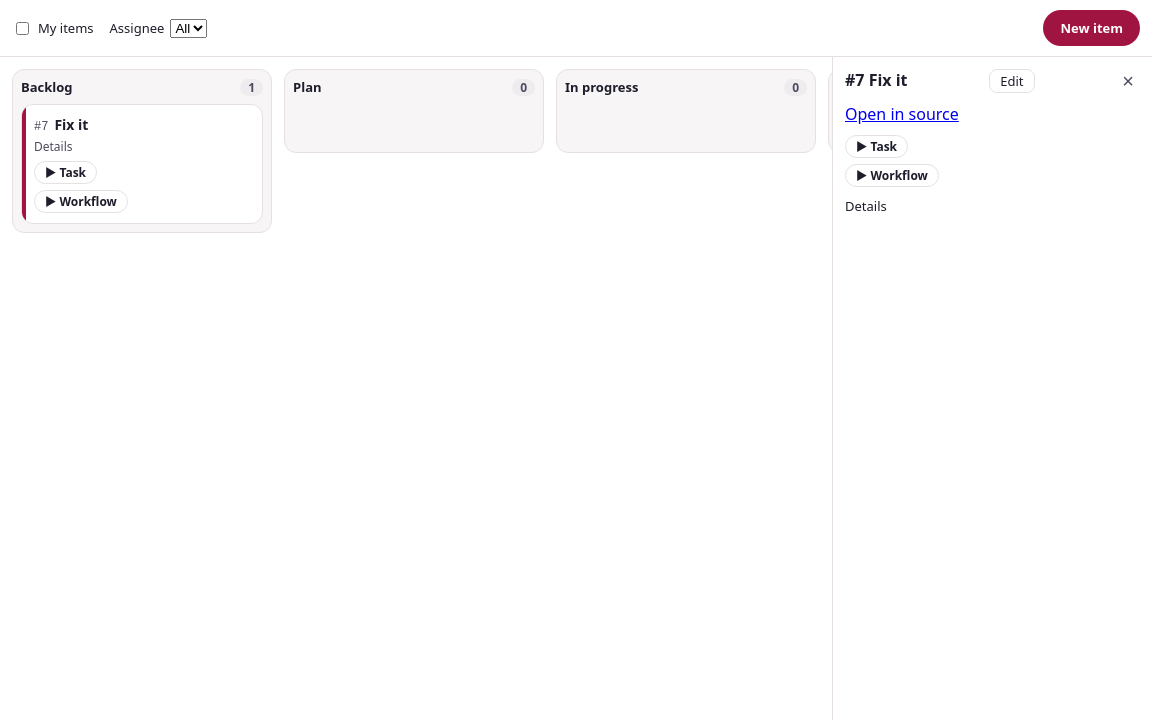
Scenario: item detail › starts a workflow from the detail too
The image size is (1152, 720).
Click the button with aria-label "Start workflow on #7".
click(892, 176)  # box [845,164,939,187]
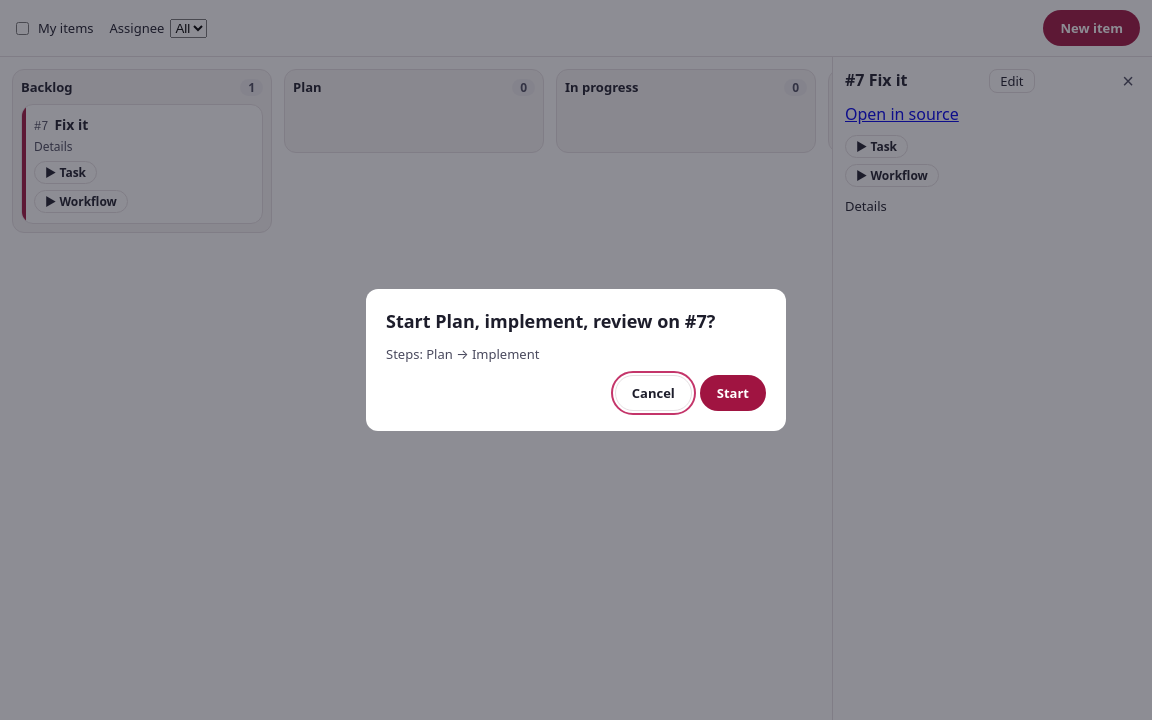
Expected: the dialog "Start Plan, implement, review on #7?" is shown, [366,289,786,431]
